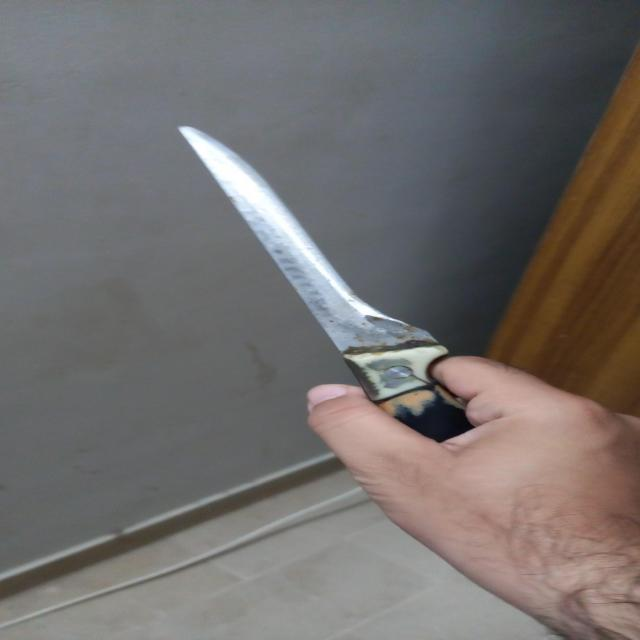Knife: (164, 103, 530, 446)
